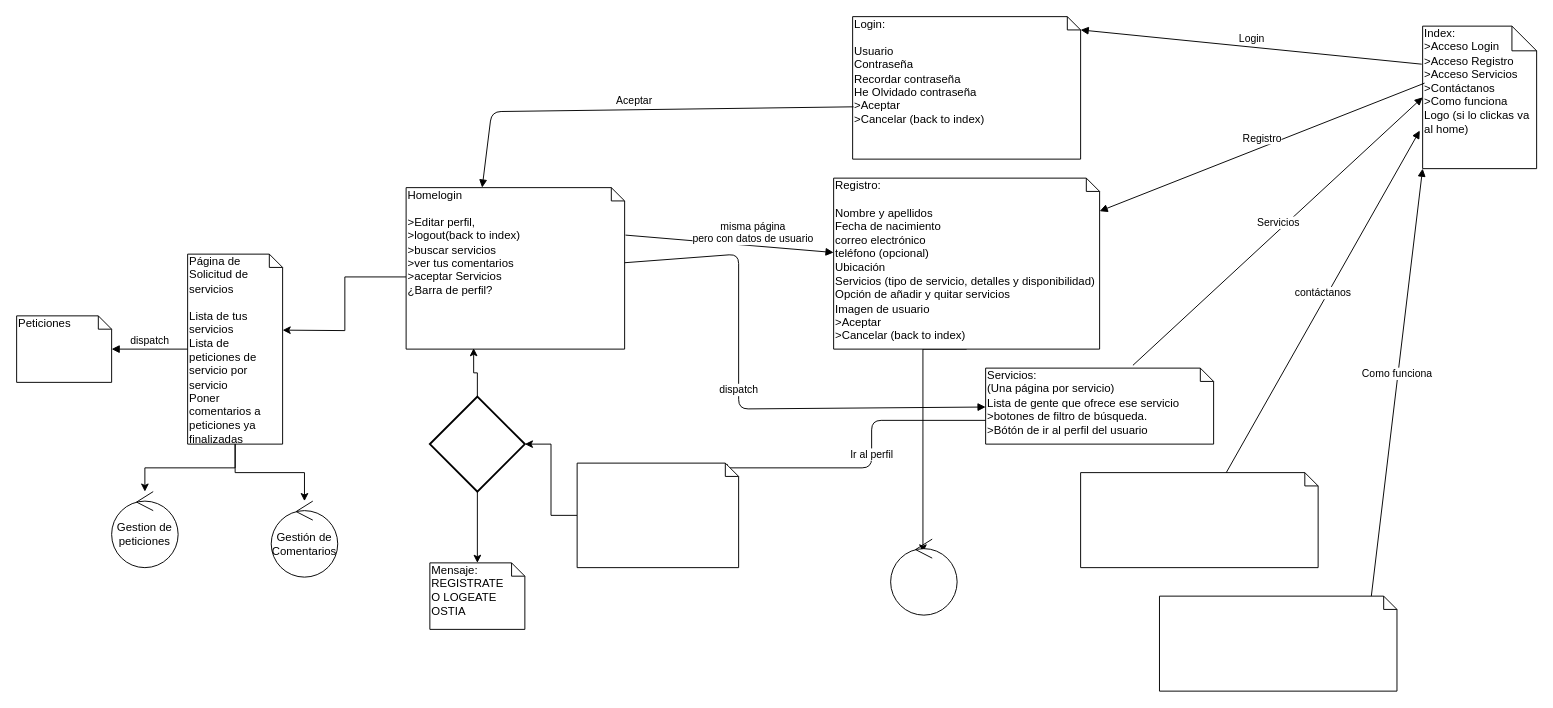
This 1553x708 diagram has some shape labels left out. Each missing label, with the centre of its shape:
Como funciona Explicación con alguna imagen: pixel 1278 643
Contáctanos: mailto:correo: pixel 1199 520
Gestion de usuarios: pixel 923 576
Login?: pixel 476 443
ViewProfile Nombre Ubicación Servicios Comentarios >Botón para aceptar servicio: pixel 657 515
